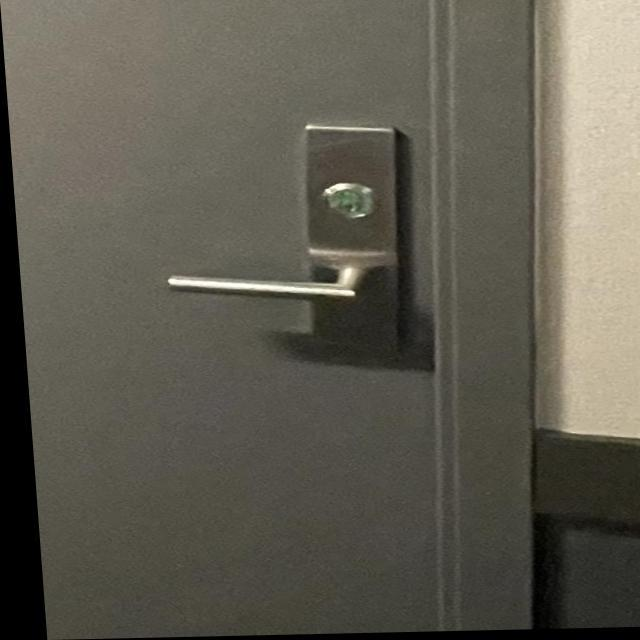door_handle: (145, 239, 402, 331)
